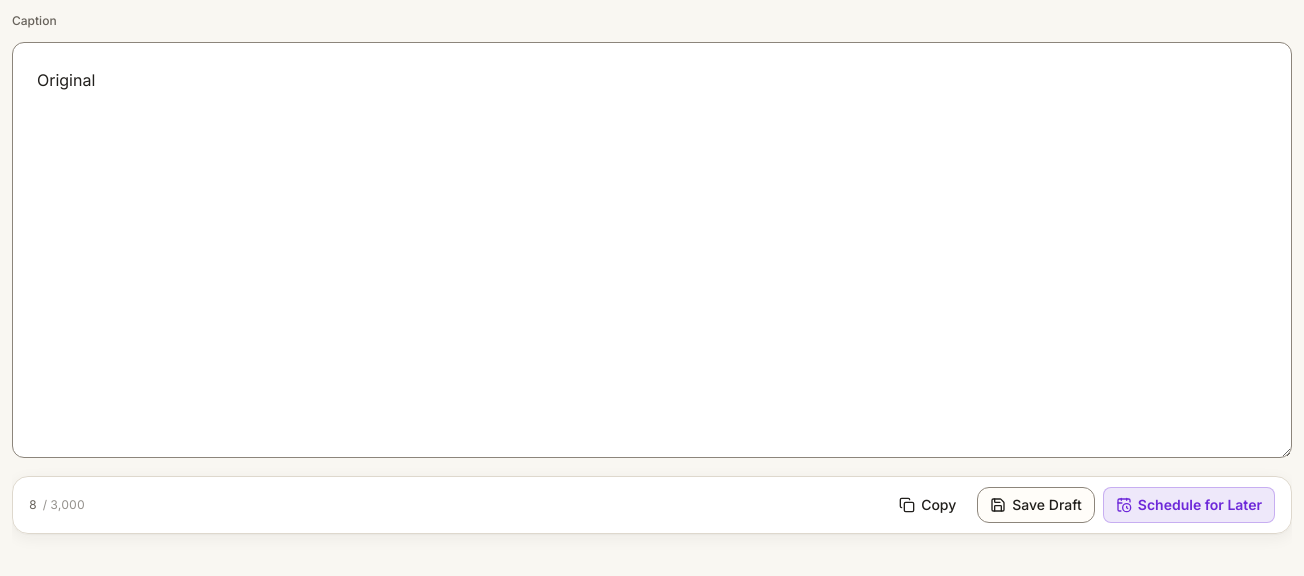
caption save feedback › does not navigate when the schedule save fails
Click the button "Schedule for Later" at (1189, 505), box [1103,487,1275,523]
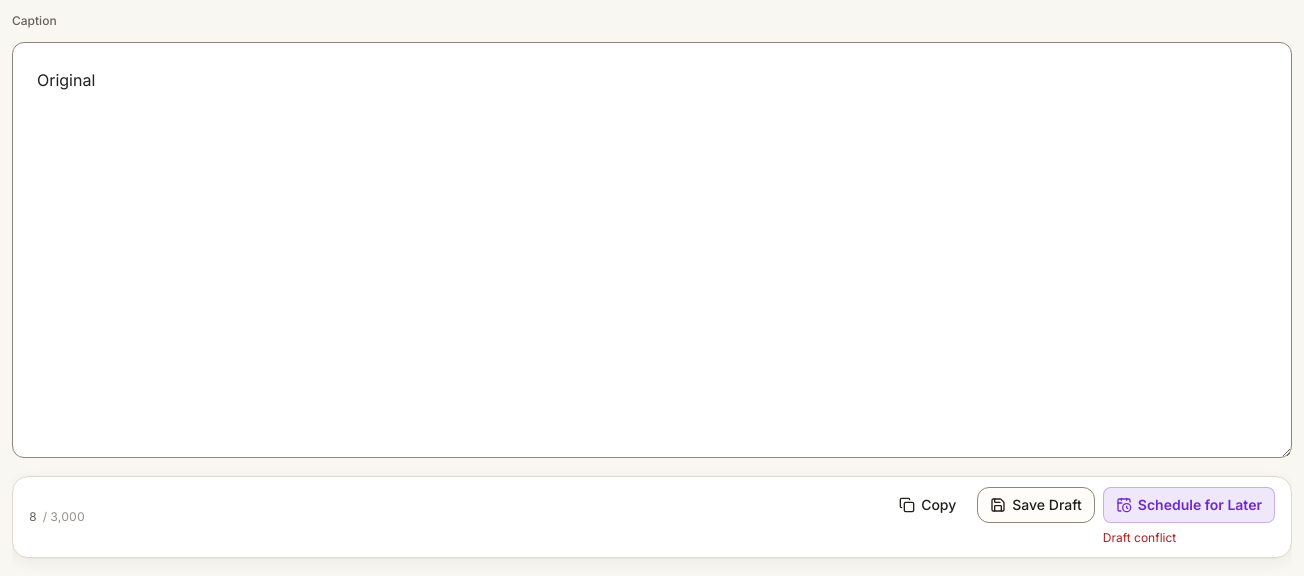
expect the message reads "Draft conflict": met, box [1103,530,1176,545]
